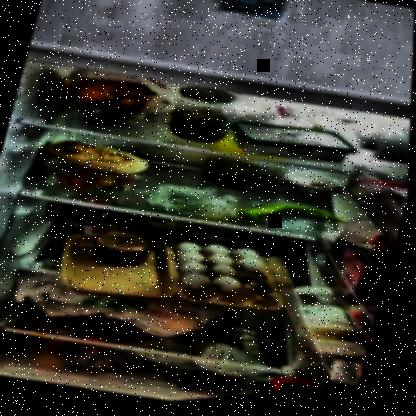cream_cheese: (230, 117, 356, 179)
eggs: (172, 239, 266, 305)
green_chillies: (235, 195, 348, 247)
olives: (205, 161, 289, 204)
red_onion: (87, 97, 130, 131)
